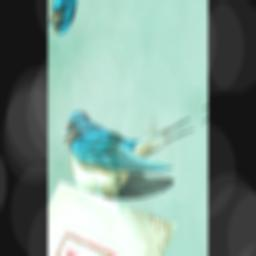Swallow: (58, 36, 199, 254)
